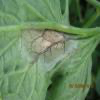Tomato leaf late blight: (0, 2, 97, 100)
